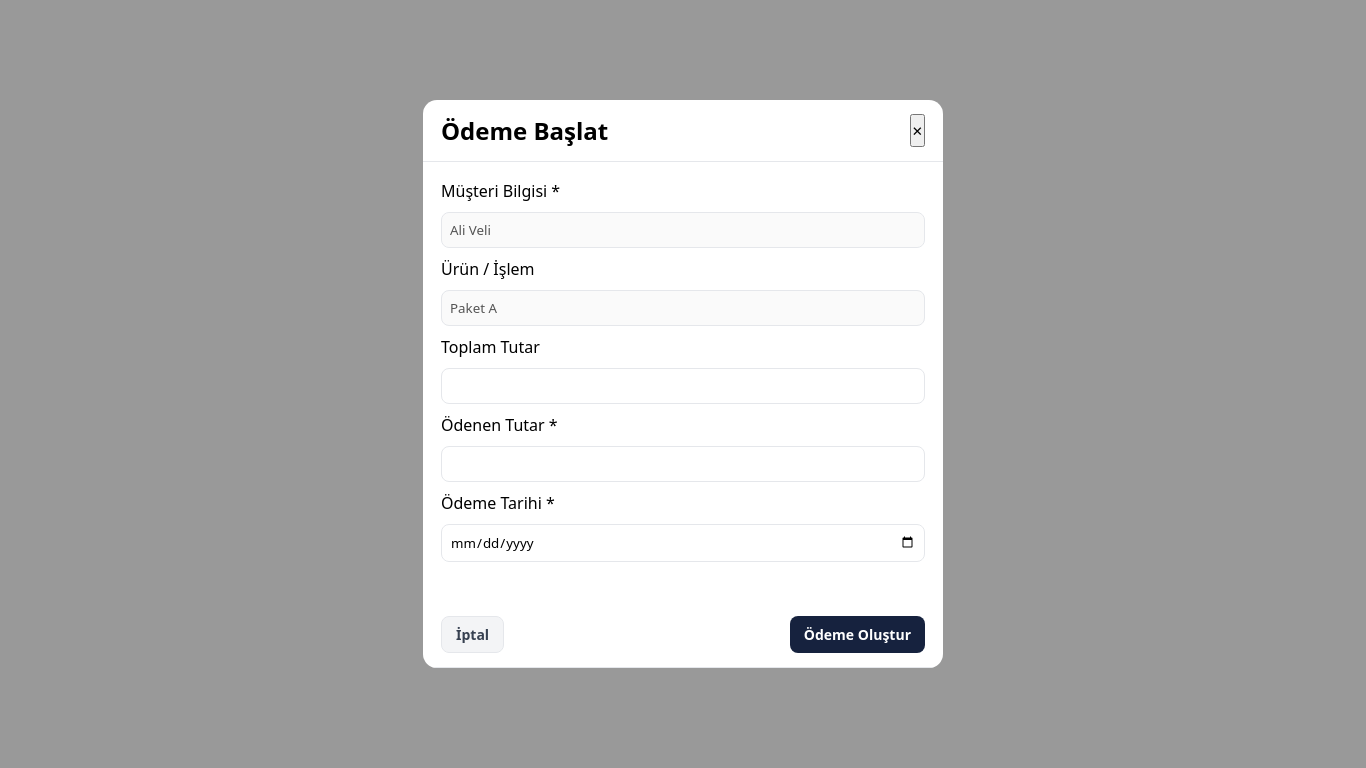
Test: AddPaymentModal › amount formatting › formats numeric input with tr-TR thousands separators
In the 4th field named "paid_amount": (683, 464) [441, 446, 925, 482], type "12000"
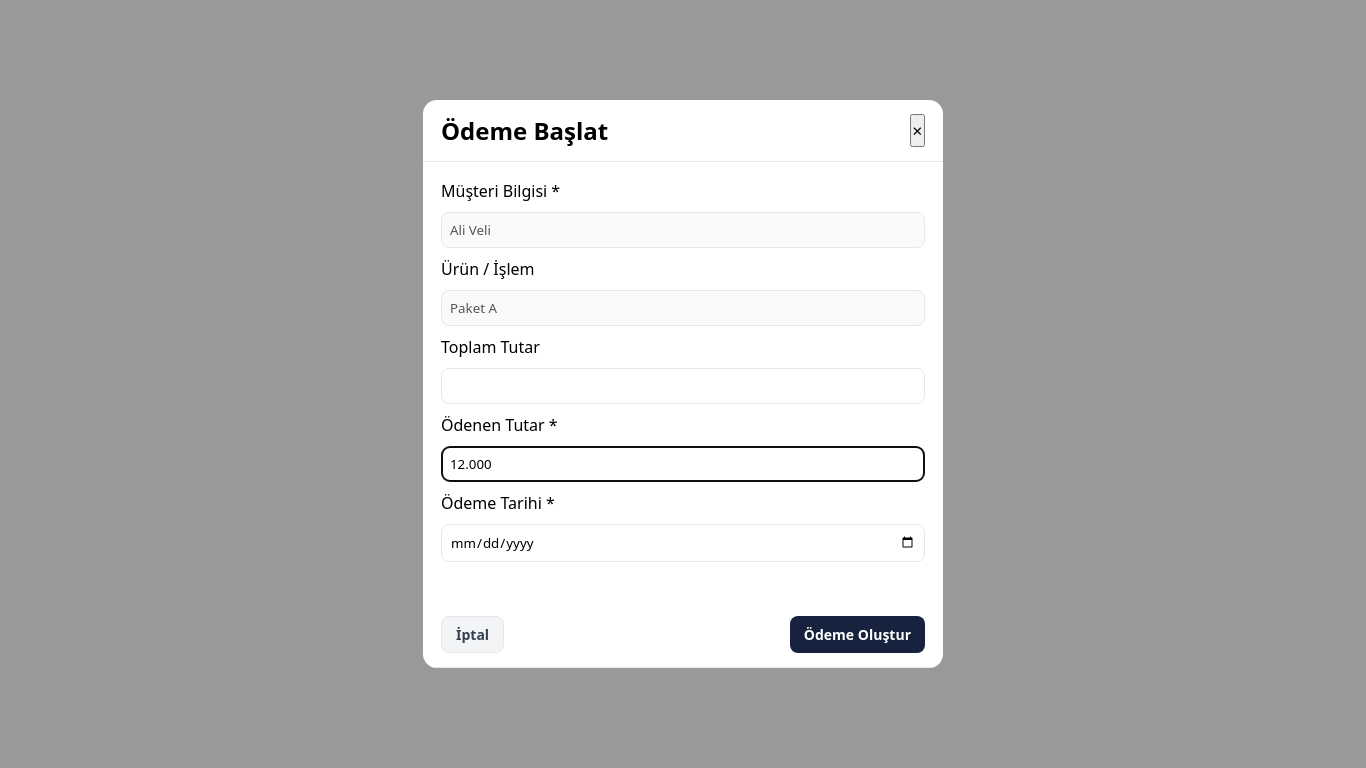
expect the 4th field named "paid_amount" holds "12.000": met, box [441, 446, 925, 482]
